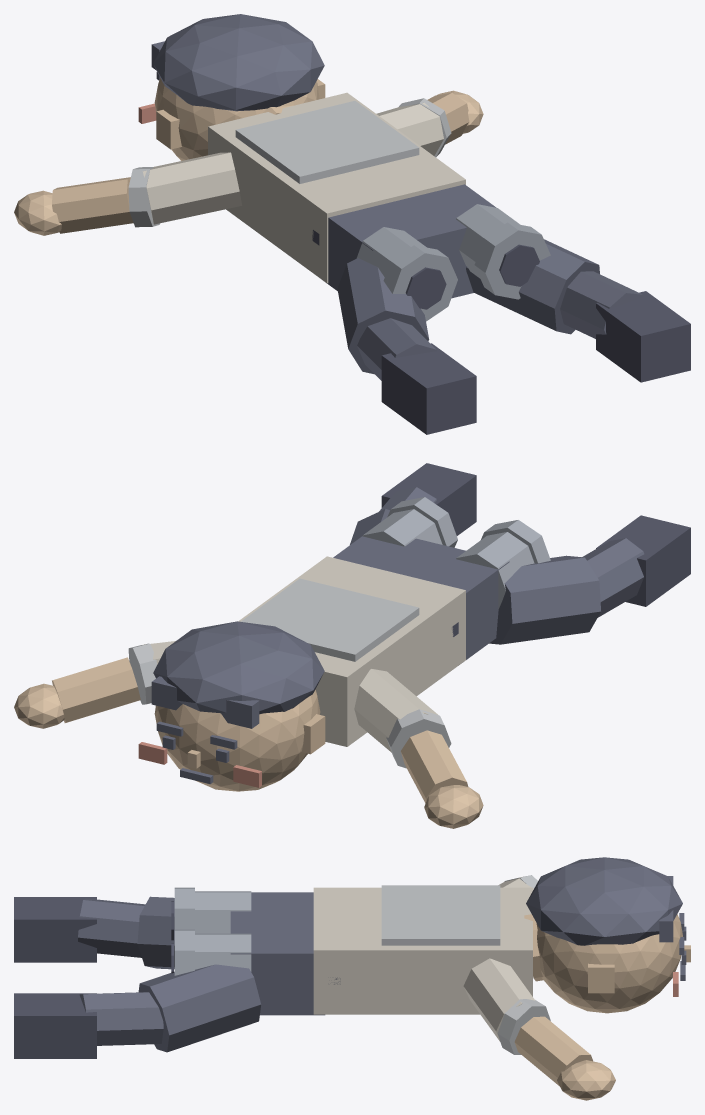
The model's file is character_flying_overpressure.glb.
3 views of the same model, one above another, from view 1: azimuth 30°, elevation 25°; view 2: azimuth 150°, elevation 25°; view 3: azimuth 270°, elevation 25° (orthographic). The views are drawn at different scales.
Visible parts, largest first — view 1: 000_shirt_torso, 006_hair_cap, 001_rolled_shirt_back, 002_waist_pants, 025_shoe_-1, 035_shoe_1, 019_upper_sleeve_-1, 023_upper_leg_-1, 033_upper_leg_1, 021_forearm_-1, 005_head, 034_lower_leg_1 (+12 smaller); view 2: 000_shirt_torso, 006_hair_cap, 005_head, 001_rolled_shirt_back, 023_upper_leg_-1, 002_waist_pants, 025_shoe_-1, 031_forearm_1, 019_upper_sleeve_-1, 035_shoe_1, 024_lower_leg_-1, 021_forearm_-1 (+11 smaller); view 3: 000_shirt_torso, 006_hair_cap, 002_waist_pants, 005_head, 001_rolled_shirt_back, 033_upper_leg_1, 035_shoe_1, 025_shoe_-1, 034_lower_leg_1, 024_lower_leg_-1, 029_upper_sleeve_1, 031_forearm_1 (+10 smaller).
Boxes of the visible parts, bbox=[...] form: 000_shirt_torso: bbox=[208, 92, 465, 283]; 006_hair_cap: bbox=[153, 14, 324, 111]; 001_rolled_shirt_back: bbox=[235, 101, 419, 183]; 002_waist_pants: bbox=[327, 184, 495, 298]; 025_shoe_-1: bbox=[381, 343, 476, 434]; 035_shoe_1: bbox=[596, 291, 690, 382]; 019_upper_sleeve_-1: bbox=[142, 152, 242, 224]; 023_upper_leg_-1: bbox=[337, 258, 429, 374]; 033_upper_leg_1: bbox=[466, 239, 599, 334]; 021_forearm_-1: bbox=[52, 177, 133, 233]; 005_head: bbox=[154, 78, 319, 160]; 034_lower_leg_1: bbox=[560, 271, 644, 338]; 000_shirt_torso: bbox=[238, 556, 465, 746]; 006_hair_cap: bbox=[153, 621, 324, 714]; 005_head: bbox=[154, 689, 320, 791]; 001_rolled_shirt_back: bbox=[241, 578, 419, 661]; 023_upper_leg_-1: bbox=[489, 555, 600, 644]; 002_waist_pants: bbox=[333, 536, 509, 659]; 025_shoe_-1: bbox=[596, 515, 690, 606]; 031_forearm_1: bbox=[52, 657, 140, 722]; 019_upper_sleeve_-1: bbox=[354, 669, 437, 752]; 035_shoe_1: bbox=[381, 463, 476, 535]; 024_lower_leg_-1: bbox=[582, 538, 644, 617]; 021_forearm_-1: bbox=[400, 730, 468, 803]; 000_shirt_torso: bbox=[313, 887, 532, 1014]; 006_hair_cap: bbox=[526, 857, 682, 945]; 002_waist_pants: bbox=[230, 892, 324, 1015]; 005_head: bbox=[536, 914, 682, 1013]; 001_rolled_shirt_back: bbox=[381, 885, 500, 945]; 033_upper_leg_1: bbox=[138, 964, 261, 1052]; 035_shoe_1: bbox=[14, 993, 96, 1058]; 025_shoe_-1: bbox=[14, 897, 96, 962]; 034_lower_leg_1: bbox=[79, 992, 163, 1045]; 024_lower_leg_-1: bbox=[78, 898, 145, 957]; 029_upper_sleeve_1: bbox=[463, 958, 534, 1041]; 031_forearm_1: bbox=[514, 1016, 592, 1086].
Bounding box in the file's own units: 1.65 × 0.5171 × 2.28.
